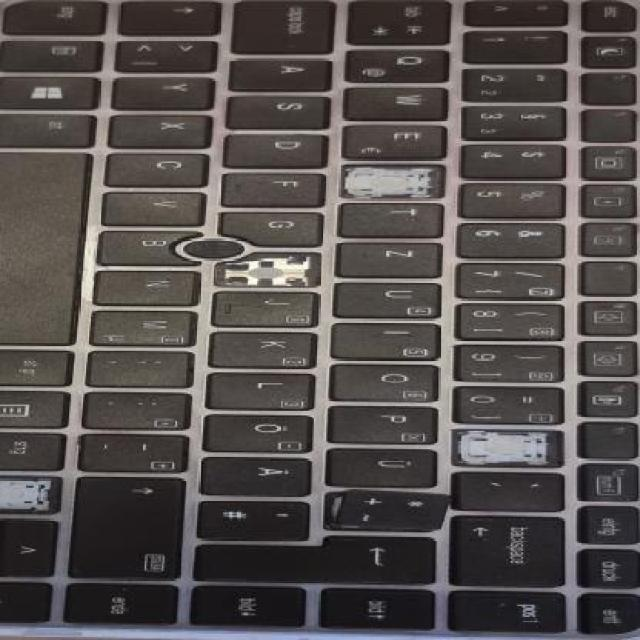Keyboard problems: (450, 417, 566, 475), (334, 154, 453, 205), (212, 243, 325, 292), (2, 469, 70, 518)
